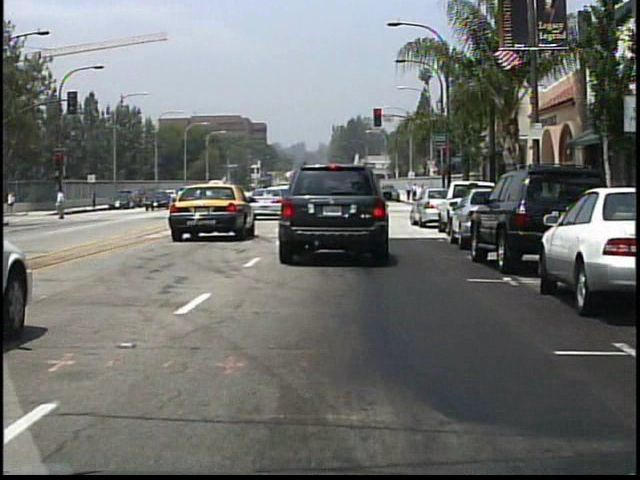person: (410, 181, 430, 215), (56, 186, 69, 222), (5, 190, 16, 215), (420, 180, 428, 203), (412, 180, 419, 203), (405, 181, 412, 202)
